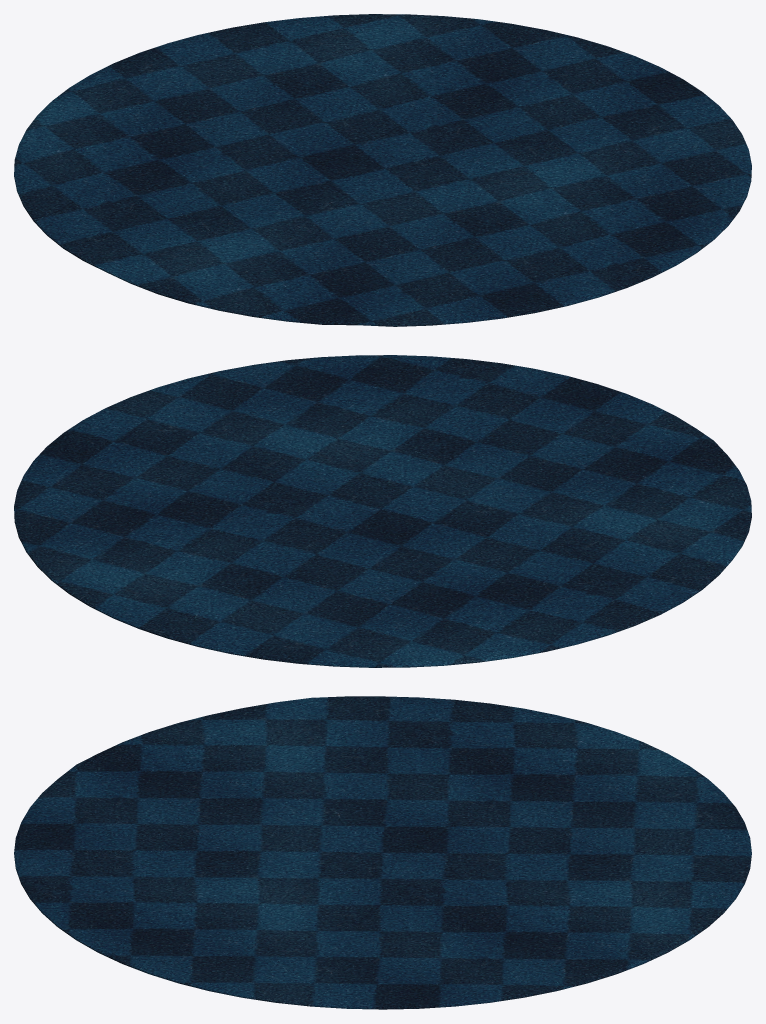
Rendered from bedroom1_bathmat_01.glb.
3 views of the same model, one above another, from view 1: azimuth 30°, elevation 25°; view 2: azimuth 150°, elevation 25°; view 3: azimuth 270°, elevation 25° (orthographic).
Visible parts, largest first — view 1: Tappeto_0; view 2: Tappeto_0; view 3: Tappeto_0.
Part boxes in pixels (x1,y1,x2,y2): Tappeto_0: [14, 14, 751, 326]; Tappeto_0: [14, 355, 751, 667]; Tappeto_0: [14, 696, 751, 1009].
Bounding box in the file's own units: 3.25 × 0.0167 × 3.25.
Materials: 1 (1 with a texture image).
